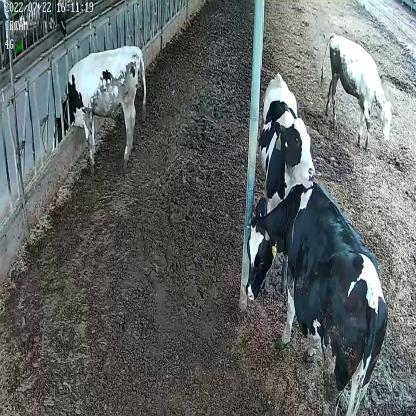cow: (245, 178, 387, 416), (51, 45, 147, 180), (322, 30, 394, 158), (260, 72, 316, 214)
